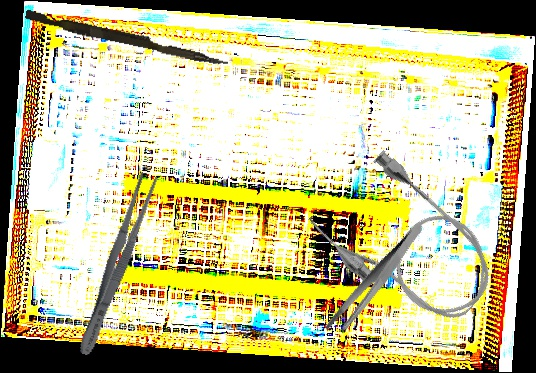Cannula: (301, 142, 512, 347)
Dressing Forceps: (305, 220, 447, 340), (73, 170, 161, 359)
Pusher: (23, 9, 231, 68)
